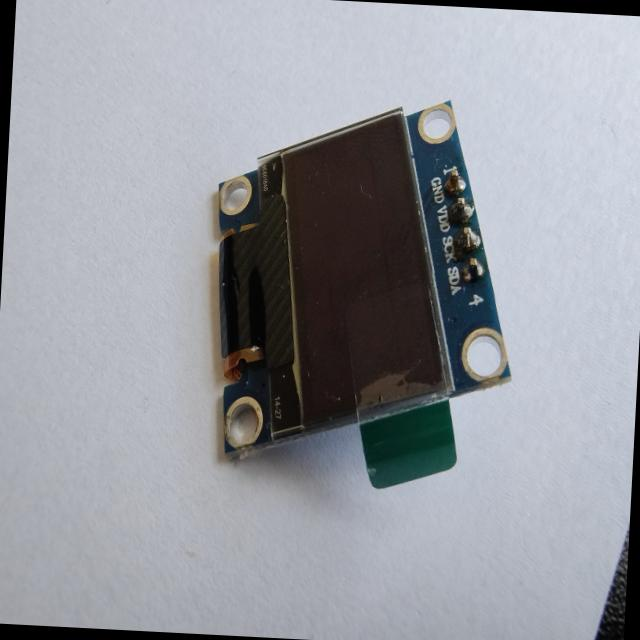oled: (195, 79, 546, 502)
